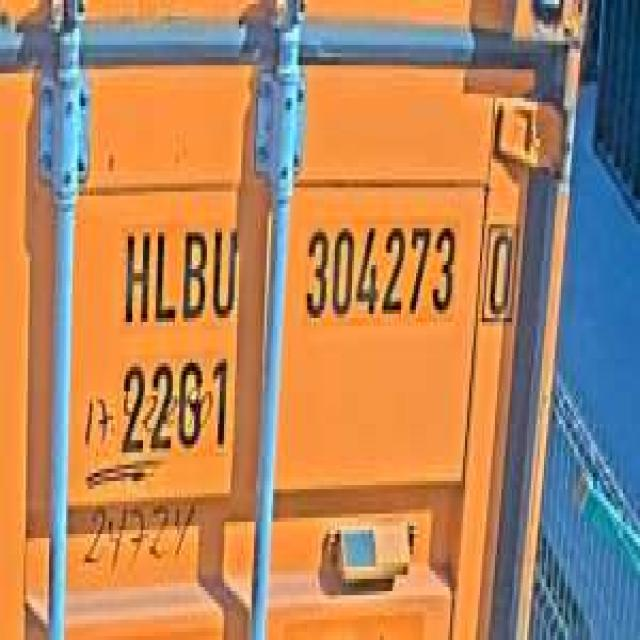dv: (478, 212, 523, 330)
owner: (117, 212, 241, 330)
serial: (301, 212, 458, 330)
size: (118, 346, 232, 461)
